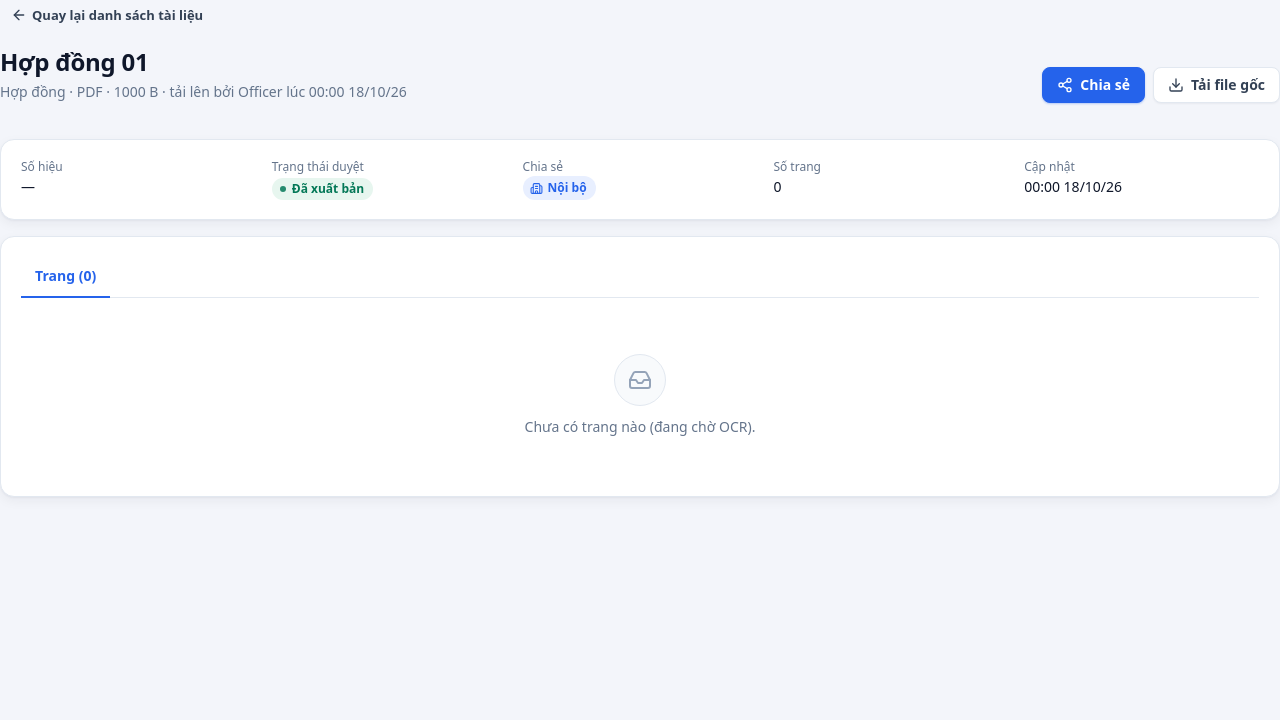
Test: Chi tiết tài liệu - chia sẻ (FR-13) › chủ sở hữu tài liệu đã xuất bản: nhãn chế độ và nút Chia sẻ mở hộp thoại
expect the text "Nội bộ" is shown: met, box [523,176,596,200]
Click the button "Chia sẻ" at (1094, 85), box [1042,67,1145,103]
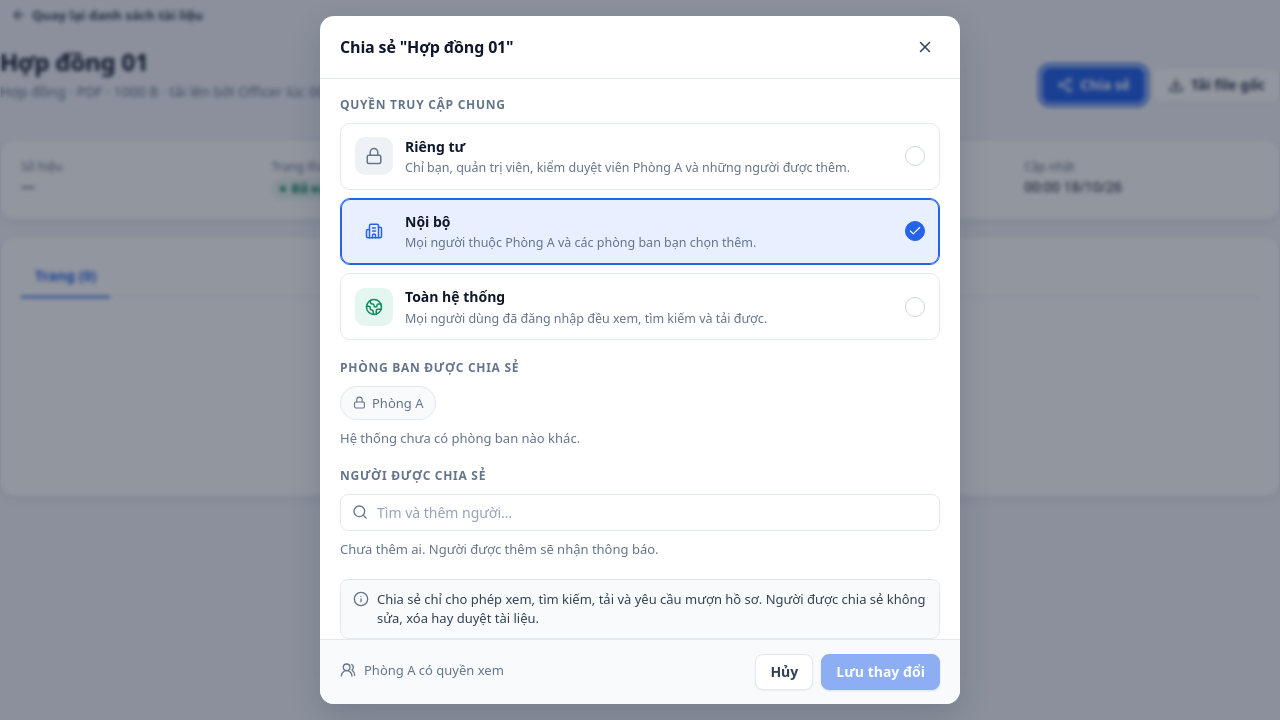
expect the dialog "Chia sẻ \"Hợp đồng 01\"" is shown: met, box [320,16,960,704]
